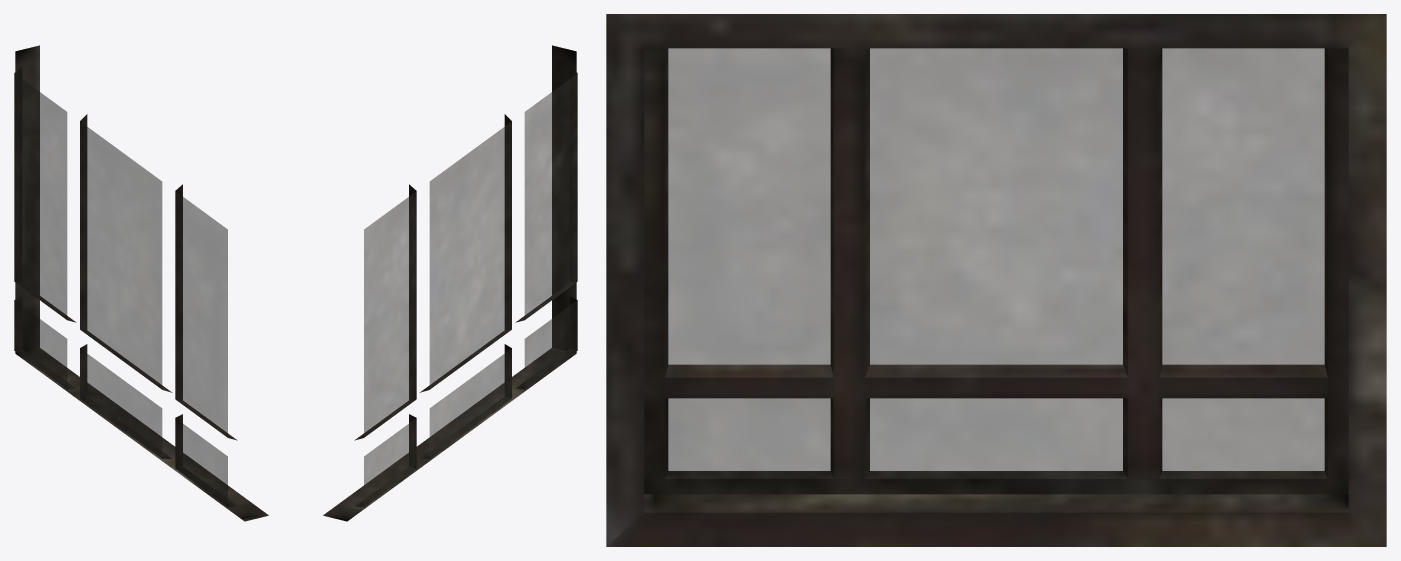
File: TripleSmallWindow.FBX
3 renders of one model, left to right at view 1: azimuth 30°, elevation 25°; view 2: azimuth 150°, elevation 25°; view 3: azimuth 270°, elevation 25°, orthographic. The views are drawn at different scales.
Visible parts, largest first — view 1: TripleSmallWindow; view 2: TripleSmallWindow; view 3: TripleSmallWindow.
Part boxes in pixels (<box>): TripleSmallWindow: <box>14,45,268,521</box>; TripleSmallWindow: <box>323,45,577,521</box>; TripleSmallWindow: <box>606,14,1386,546</box>.
Size of the model in its own units: 20.42 by 202 by 269.
